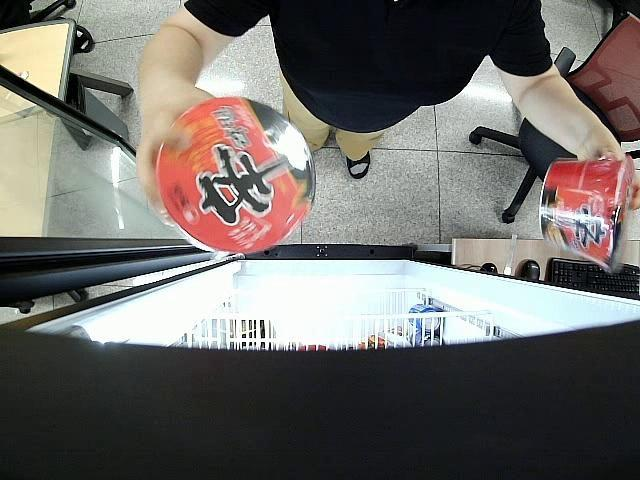01_ShinRamen_L: (154, 95, 316, 254), (538, 156, 632, 271)
